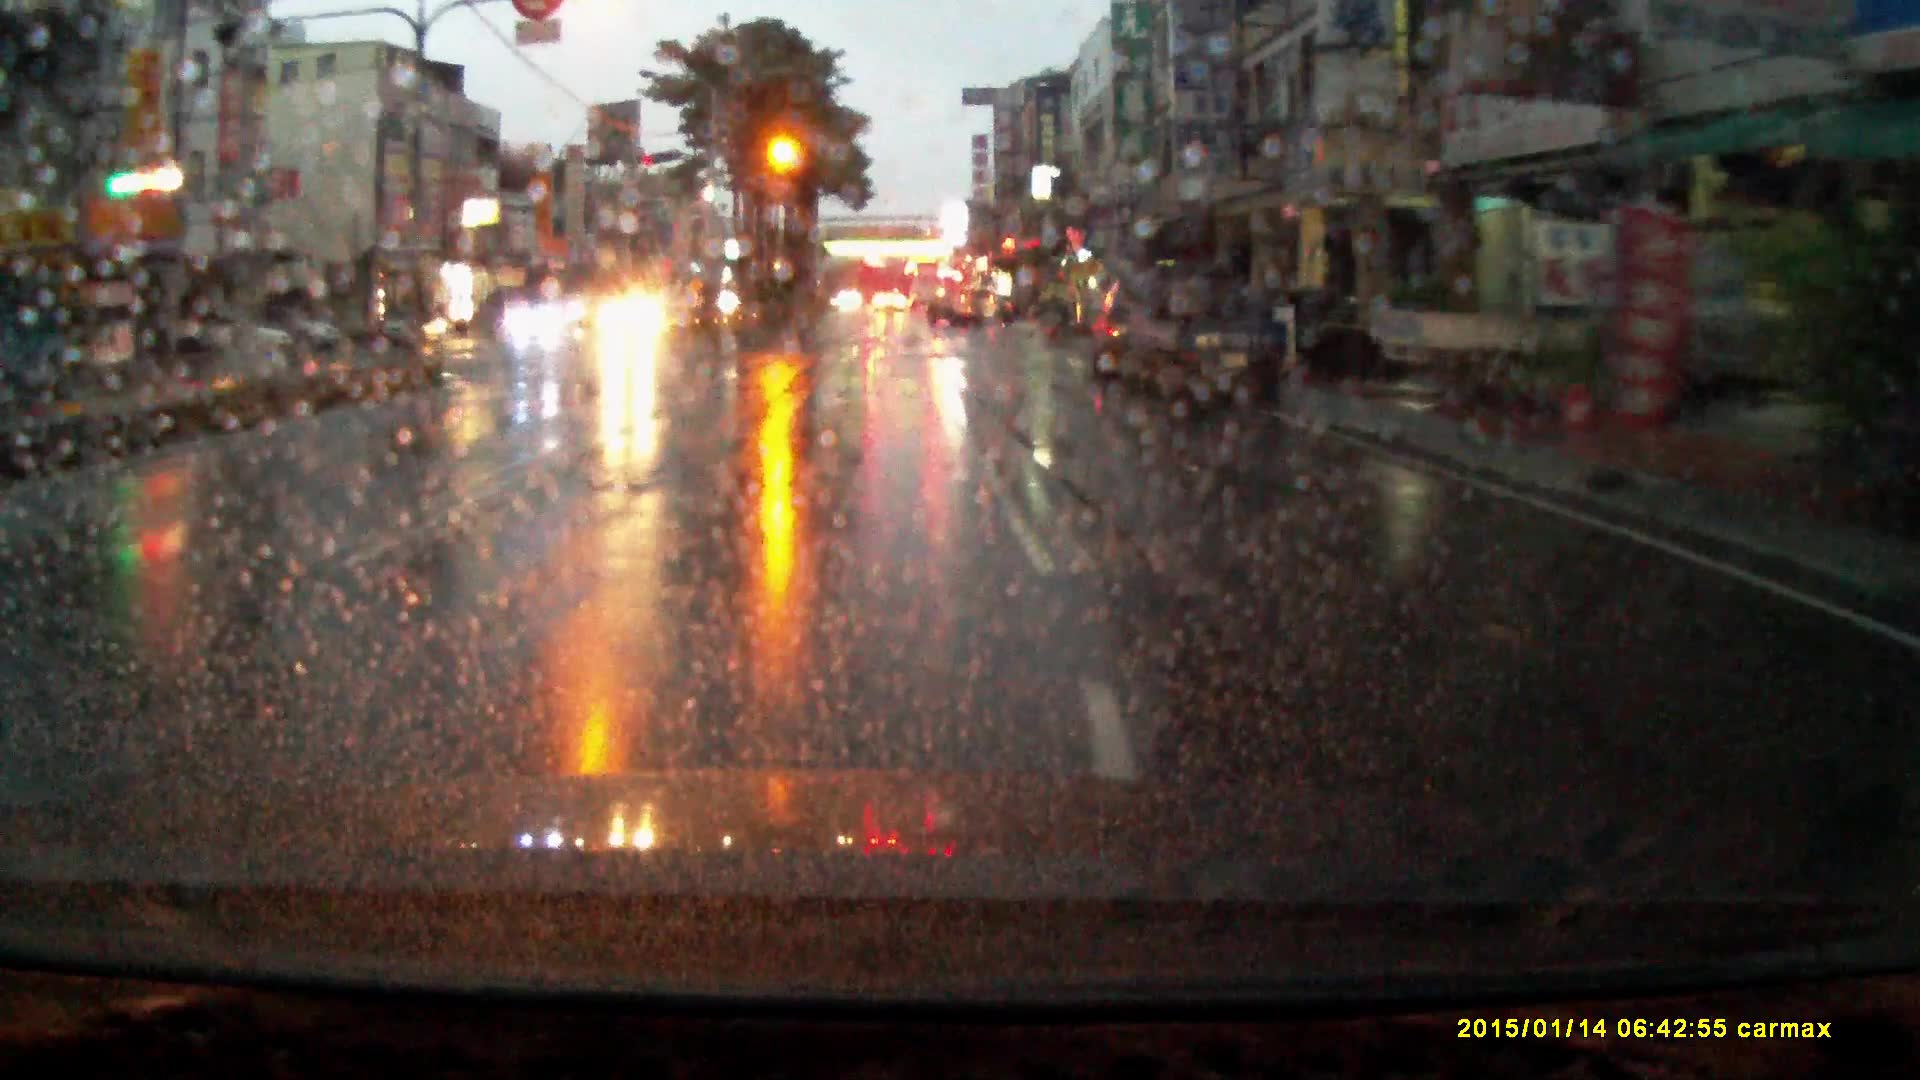vehicle: (1130, 258, 1284, 400), (1377, 309, 1613, 397), (166, 310, 287, 359), (595, 287, 673, 344), (1092, 276, 1133, 382), (266, 310, 347, 353), (380, 301, 444, 349), (928, 284, 998, 328), (510, 298, 572, 343), (911, 260, 945, 305), (872, 287, 909, 316)
